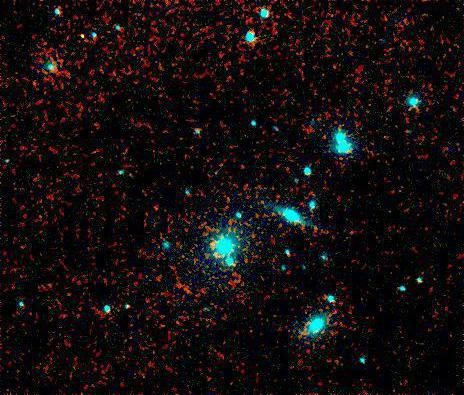star: (69, 21, 99, 51)
